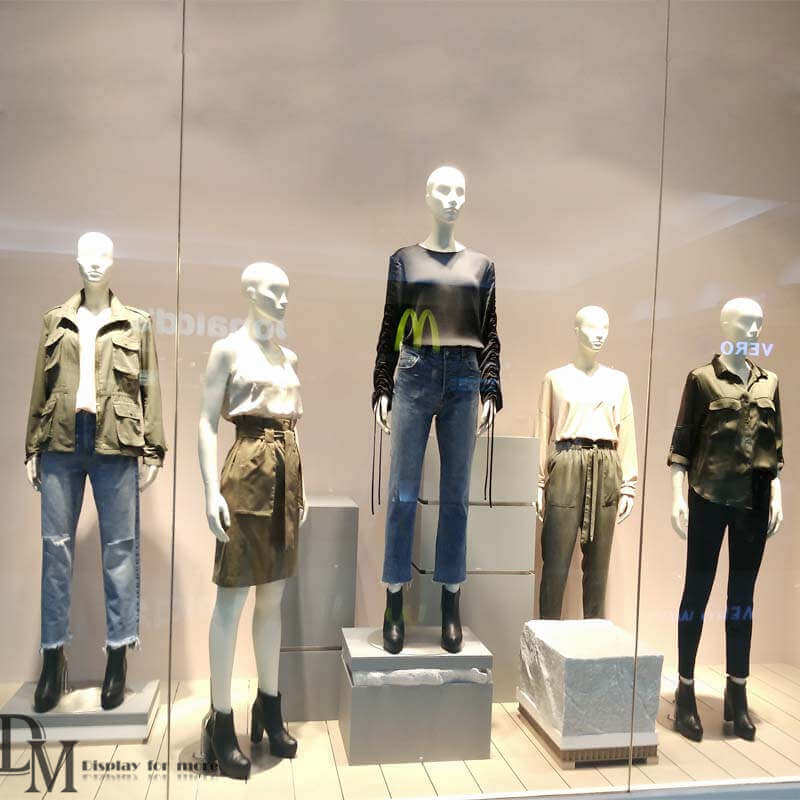person-like: (18, 224, 171, 716), (367, 160, 509, 658), (192, 255, 315, 786), (662, 292, 791, 746), (529, 301, 642, 626)
